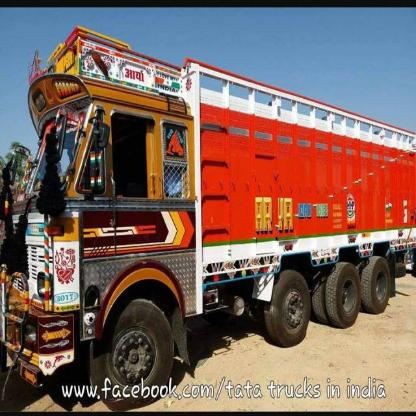truck: (23, 43, 416, 384)
